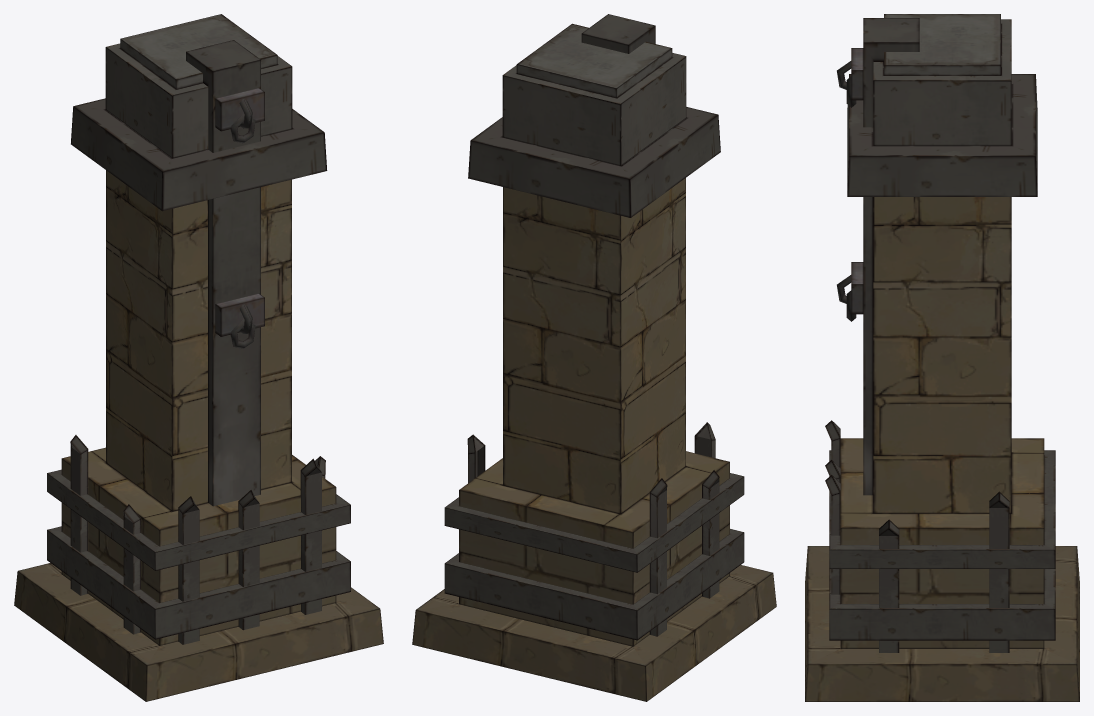
File: 2_DG_JYZhuZi_01.FBX
3 views of the same model, side by side, from view 1: azimuth 30°, elevation 25°; view 2: azimuth 150°, elevation 25°; view 3: azimuth 270°, elevation 25° (orthographic). The views are drawn at different scales.
Visible parts, largest first — view 1: 2_DG_JYZhuZi_03, 2_DG_JYZhuZi_02, 2_DG_JYZhuZi_01; view 2: 2_DG_JYZhuZi_03, 2_DG_JYZhuZi_02, 2_DG_JYZhuZi_01; view 3: 2_DG_JYZhuZi_03, 2_DG_JYZhuZi_02, 2_DG_JYZhuZi_01.
Boxes of the visible parts, bbox=[...] form: 2_DG_JYZhuZi_03: bbox=[14, 435, 383, 701]; 2_DG_JYZhuZi_02: bbox=[106, 170, 291, 511]; 2_DG_JYZhuZi_01: bbox=[71, 14, 327, 211]; 2_DG_JYZhuZi_03: bbox=[412, 422, 776, 701]; 2_DG_JYZhuZi_02: bbox=[503, 178, 685, 513]; 2_DG_JYZhuZi_01: bbox=[468, 14, 720, 217]; 2_DG_JYZhuZi_03: bbox=[805, 420, 1079, 701]; 2_DG_JYZhuZi_02: bbox=[837, 197, 1011, 513]; 2_DG_JYZhuZi_01: bbox=[837, 14, 1037, 196].
Size of the model in its own units: 371 by 874 by 356.
